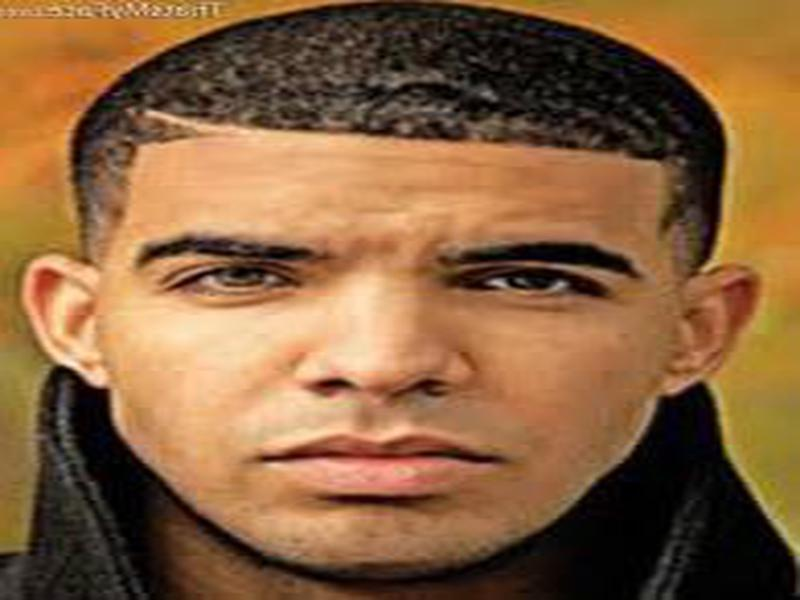without_mask: (99, 112, 672, 555)
